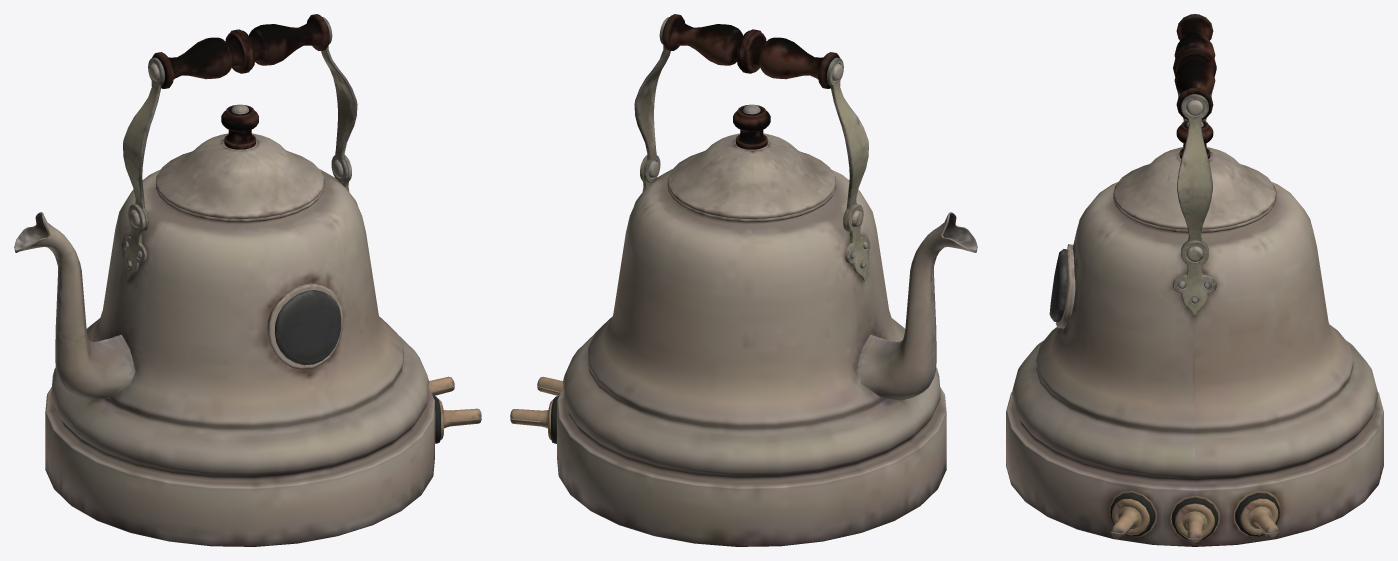
File: kettle.glb
The picture shows the model from 3 angles, left to right: view 1: azimuth 30°, elevation 25°; view 2: azimuth 150°, elevation 25°; view 3: azimuth 270°, elevation 25°; orthographic projection. The views are drawn at different scales.
Visible parts, largest first — view 1: vintage_electric_kettle; view 2: vintage_electric_kettle; view 3: vintage_electric_kettle.
Part boxes in pixels (x1,y1,x2,y2): vintage_electric_kettle: (14, 14, 481, 546); vintage_electric_kettle: (510, 14, 977, 546); vintage_electric_kettle: (1006, 14, 1383, 546).
Size of the model in its own units: 0.3209 by 0.3048 by 0.2486.
2 materials, 2 textured.
